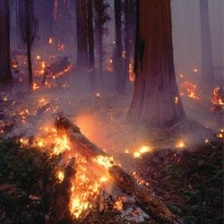fire: (30, 118, 140, 216)
